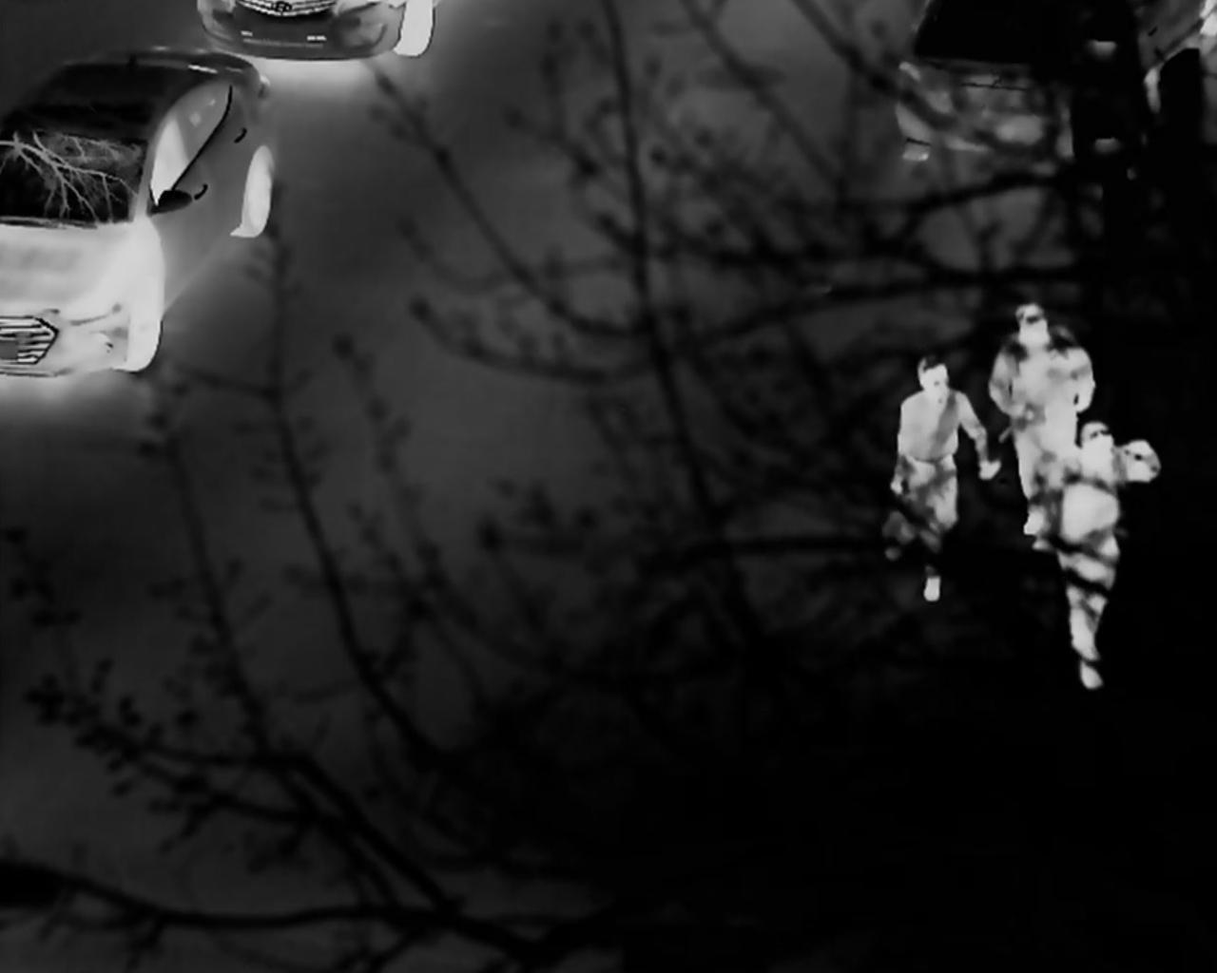person: (984, 291, 1085, 565), (900, 353, 999, 617), (1072, 404, 1118, 682)
